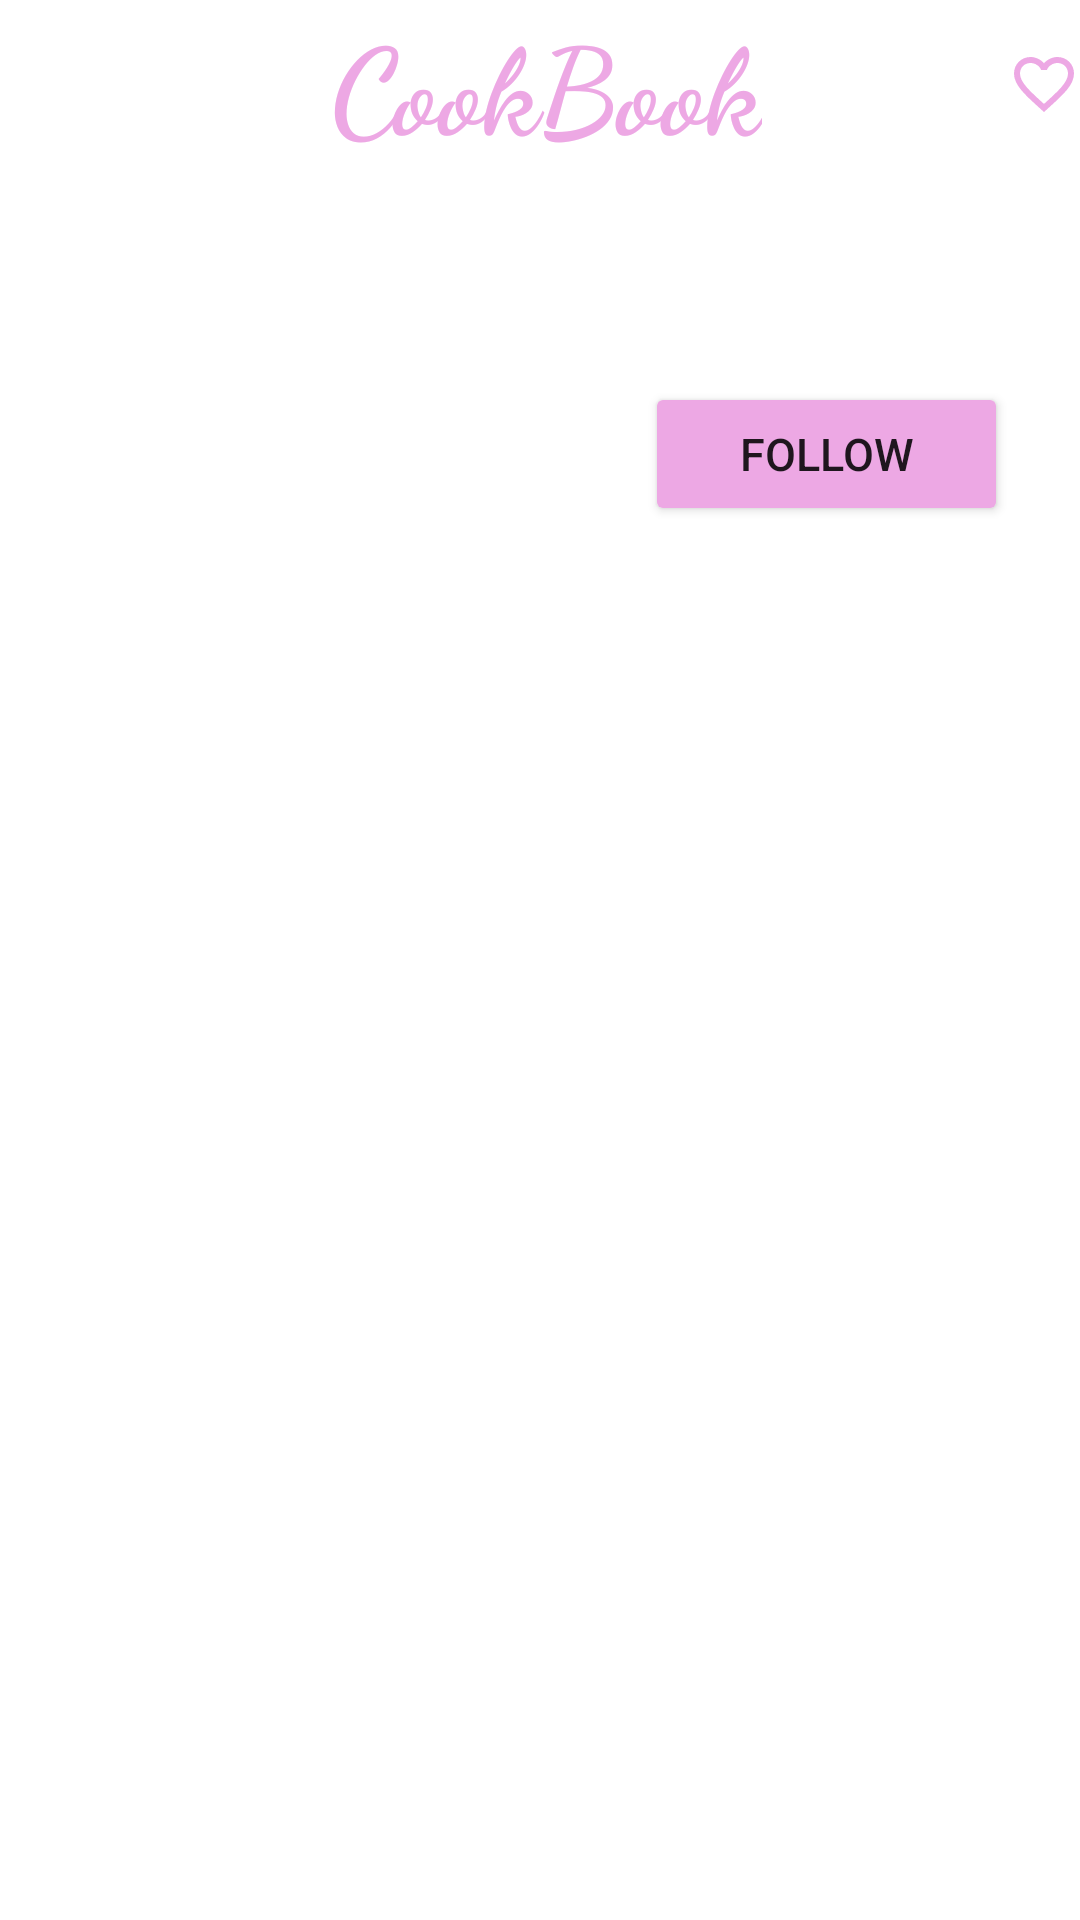

Where to tap for icons on this 1080px×1920px app screen, as (x,y):
like: (1044,84)
